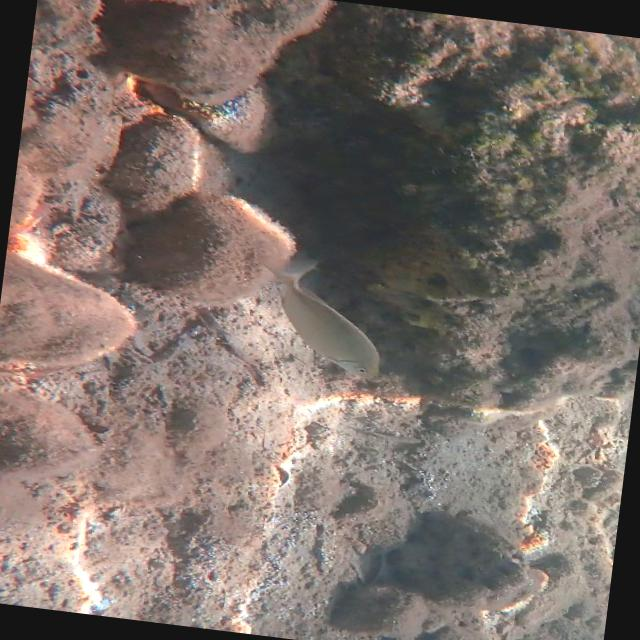Sokar Baligi: (242, 250, 412, 388)
